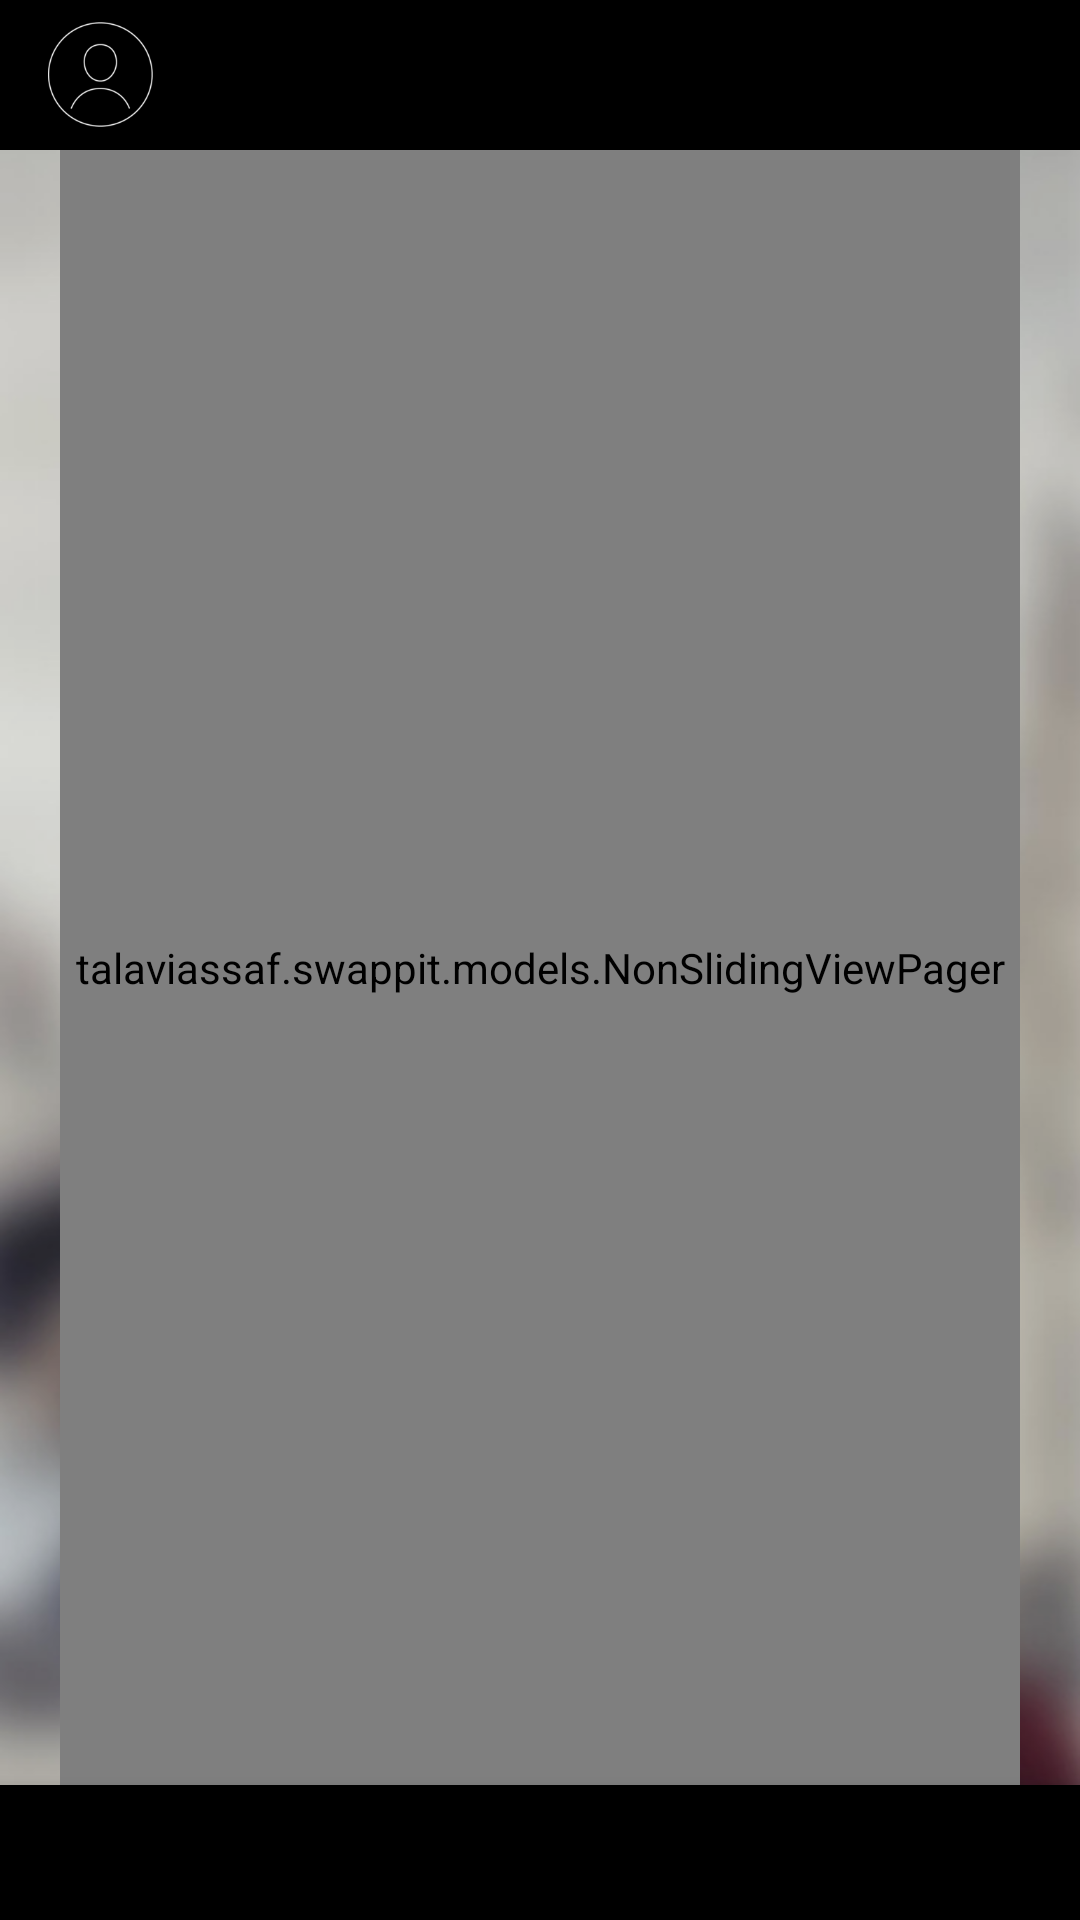

Locate icon controls on the screen. Image size 1080px x 1920px, boxes as bbox=(x1, y1, x2, y2).
profile picture: bbox=(48, 22, 153, 127)
